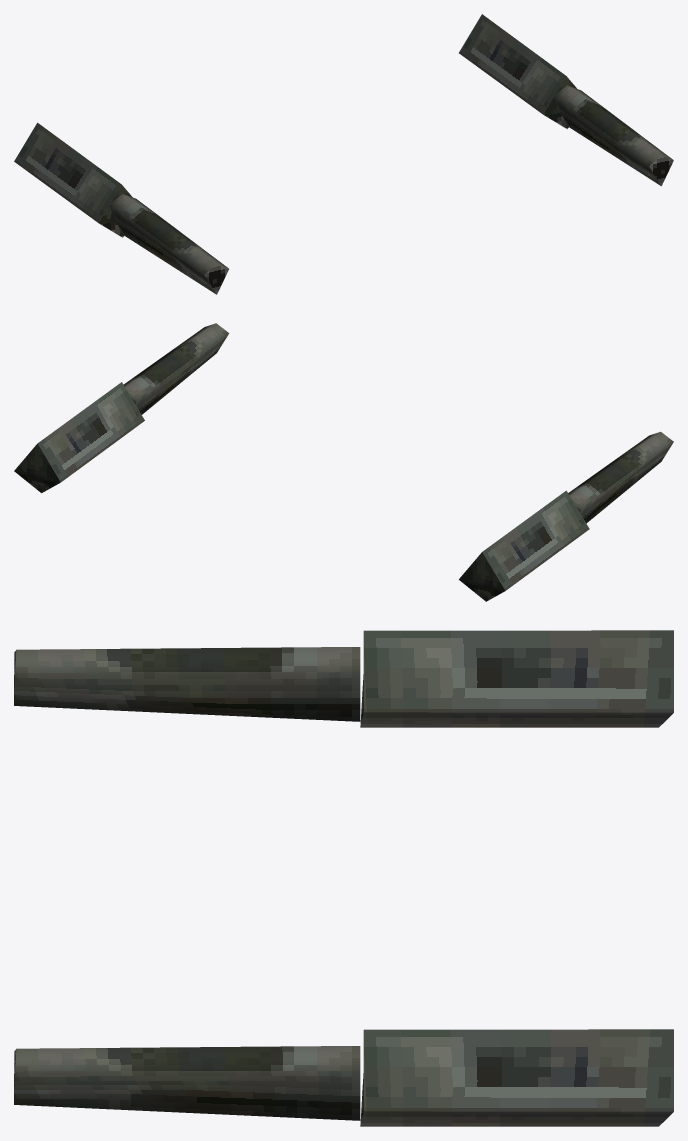
File: black_sun_fighter_heavy_weapon1_s01_l3.fbx
The picture shows the model from 3 angles, top to bottom: view 1: azimuth 30°, elevation 25°; view 2: azimuth 150°, elevation 25°; view 3: azimuth 270°, elevation 25°; orthographic projection. The views are drawn at different scales.
Parts seen in each view (by area): view 1: mesh_node; view 2: mesh_node; view 3: mesh_node.
Part boxes in pixels (box(x1,y1,x2,y2)): mesh_node: box(14, 14, 673, 294); mesh_node: box(14, 323, 673, 601); mesh_node: box(14, 630, 673, 1126).
Bounding box in the file's own units: 3.11 × 0.3192 × 1.96.
Materials: 1 (1 with a texture image).
